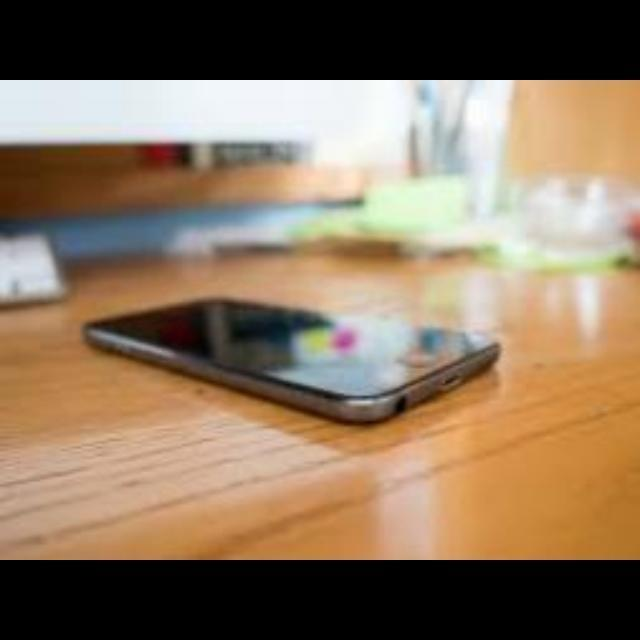phone: (71, 262, 539, 456)
